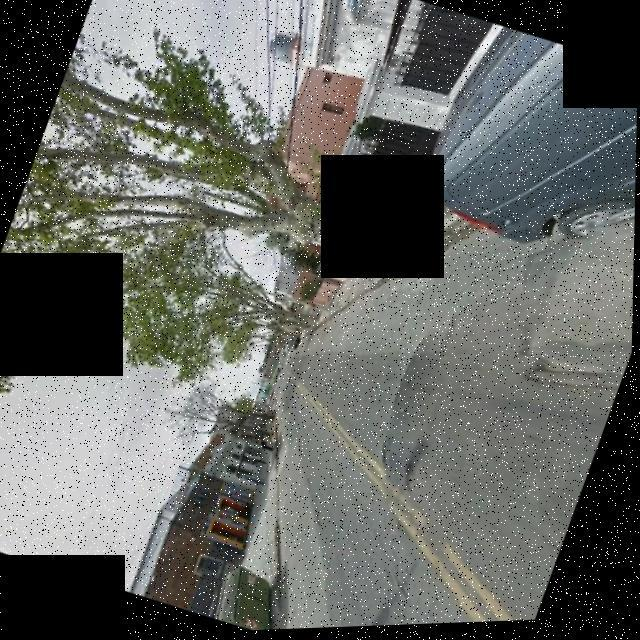bin: (201, 549, 305, 634)
